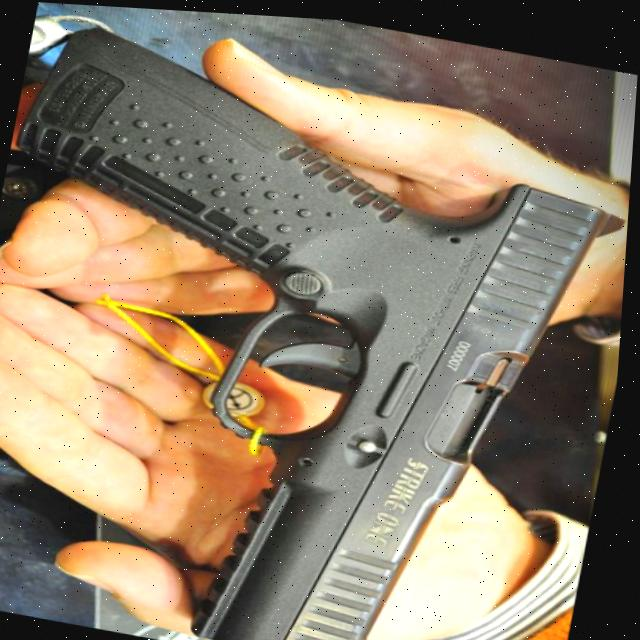pistol: (0, 16, 639, 640)
